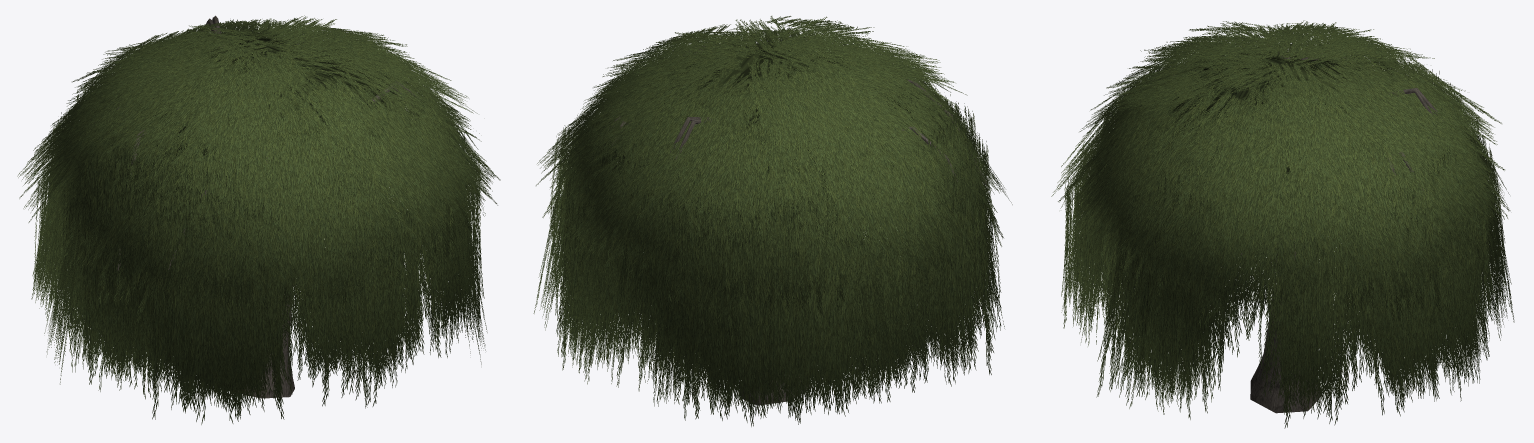
The model's file is tree-willow.glb.
The picture shows the model from 3 angles, left to right: view 1: azimuth 30°, elevation 25°; view 2: azimuth 150°, elevation 25°; view 3: azimuth 270°, elevation 25°; orthographic projection.
Parts seen in each view (by area): view 1: tree-willow; view 2: tree-willow; view 3: tree-willow.
Boxes of the visible parts, x1,y1,x2,y2 form: tree-willow: [17, 15, 500, 424]; tree-willow: [533, 16, 1012, 426]; tree-willow: [1051, 20, 1514, 428].
Size of the model in its own units: 8.02 by 6.42 by 7.87.
2 materials, 2 textured.
